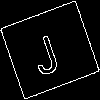J: (25, 25, 63, 78)
